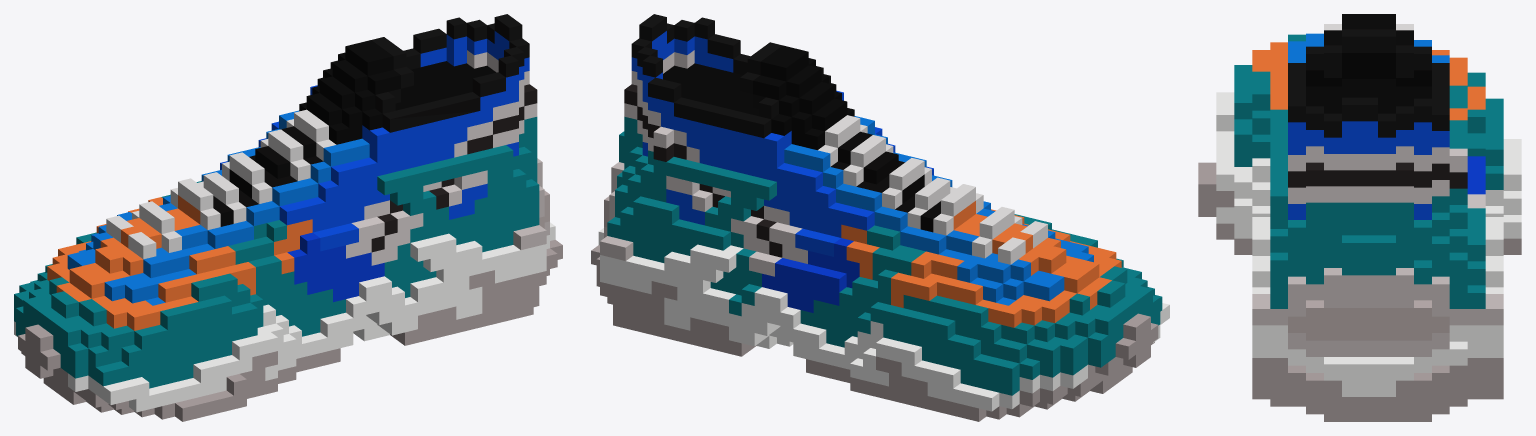
Rendered from Burning Ocean.fbx.
3 renders of one model, left to right at view 1: azimuth 30°, elevation 25°; view 2: azimuth 150°, elevation 25°; view 3: azimuth 270°, elevation 25°, orthographic. The views are drawn at different scales.
Parts seen in each view (by area): view 1: Untitled; view 2: Untitled; view 3: Untitled.
Boxes of the visible parts, x1,y1,x2,y2 form: Untitled: (14,14,562,421); Untitled: (591,14,1169,421); Untitled: (1198,14,1521,421).
Size of the model in its own units: 400 by 190 by 180.
